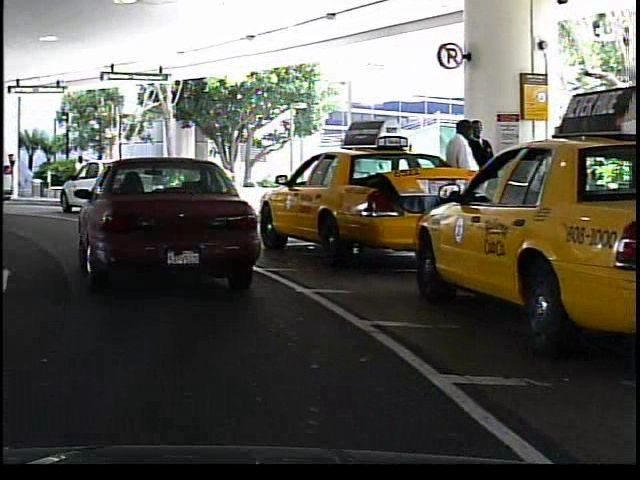person: (443, 116, 484, 244), (468, 115, 504, 239), (66, 152, 91, 197)
